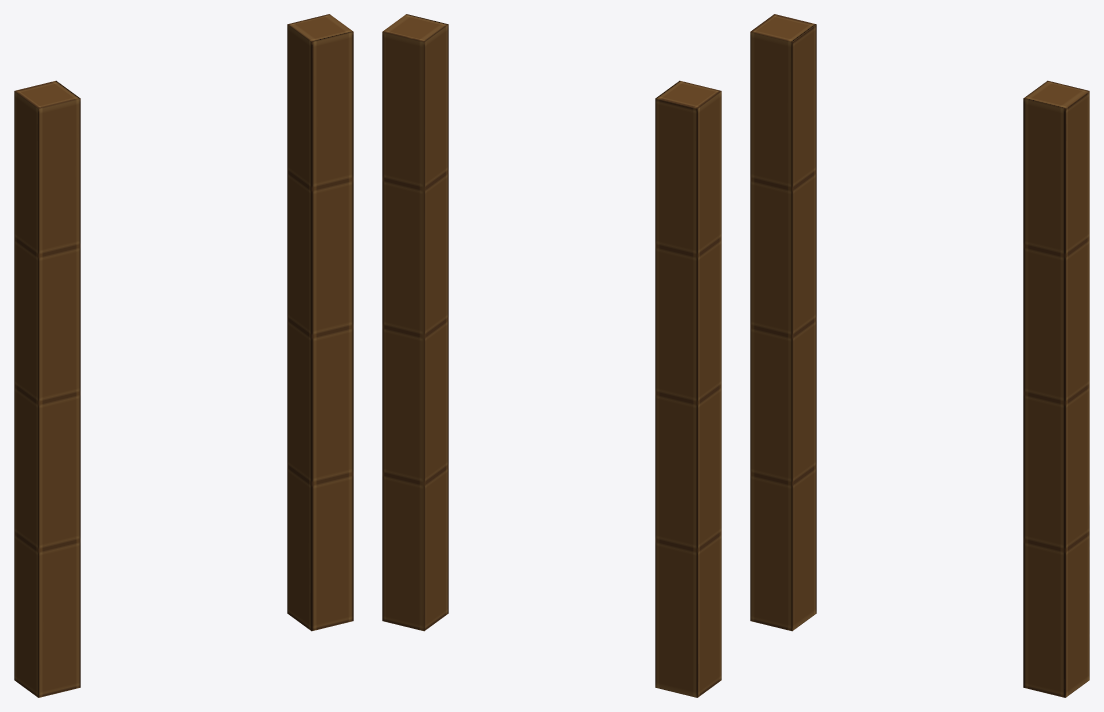
Rendered from door_frame_LOD0.fbx.
3 views of the same model, side by side, from view 1: azimuth 30°, elevation 25°; view 2: azimuth 150°, elevation 25°; view 3: azimuth 330°, elevation 25° (orthographic).
Visible parts, largest first — view 1: door_frame_LOD0; view 2: door_frame_LOD0; view 3: door_frame_LOD0.
Part boxes in pixels (x1,y1,x2,y2): door_frame_LOD0: [14, 14, 353, 697]; door_frame_LOD0: [382, 14, 721, 697]; door_frame_LOD0: [750, 14, 1089, 697].
Size of the model in its own units: 240 by 429 by 32.11.
